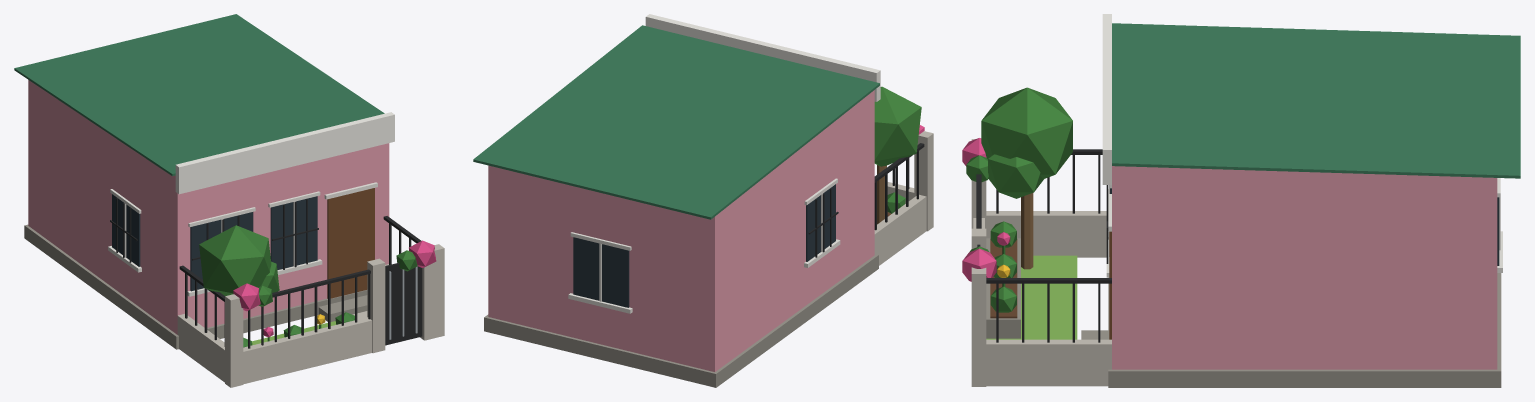
File: BAY_F_Shop_Q.glb
The picture shows the model from 3 angles, left to right: view 1: azimuth 30°, elevation 25°; view 2: azimuth 150°, elevation 25°; view 3: azimuth 270°, elevation 25°; orthographic projection. The views are drawn at different scales.
Visible parts, largest first — view 1: BAY_F_Shop_Q; view 2: BAY_F_Shop_Q; view 3: BAY_F_Shop_Q.
Boxes of the visible parts, x1,y1,x2,y2 form: BAY_F_Shop_Q: [14, 14, 444, 387]; BAY_F_Shop_Q: [473, 14, 933, 387]; BAY_F_Shop_Q: [962, 14, 1520, 387].
Size of the model in its own units: 4.33 by 3.4 by 7.24.
1 material, 1 textured.
